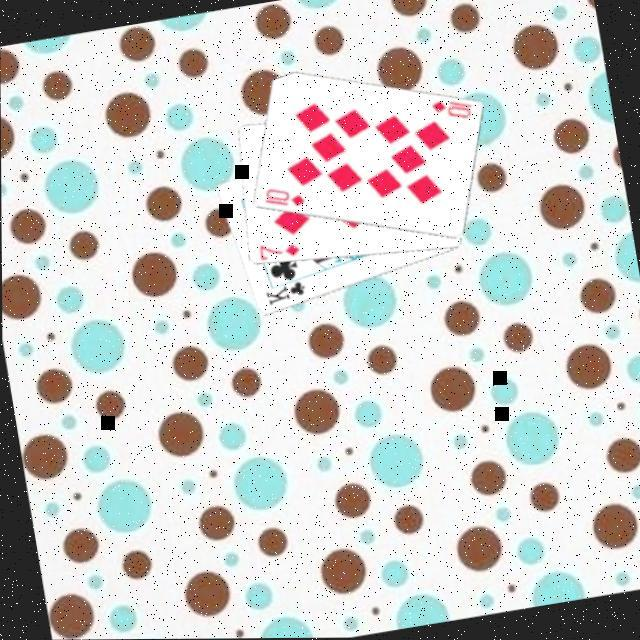10D: (257, 182, 307, 218), (425, 95, 475, 130)
7D: (252, 238, 302, 267)
KC: (258, 274, 310, 312)
